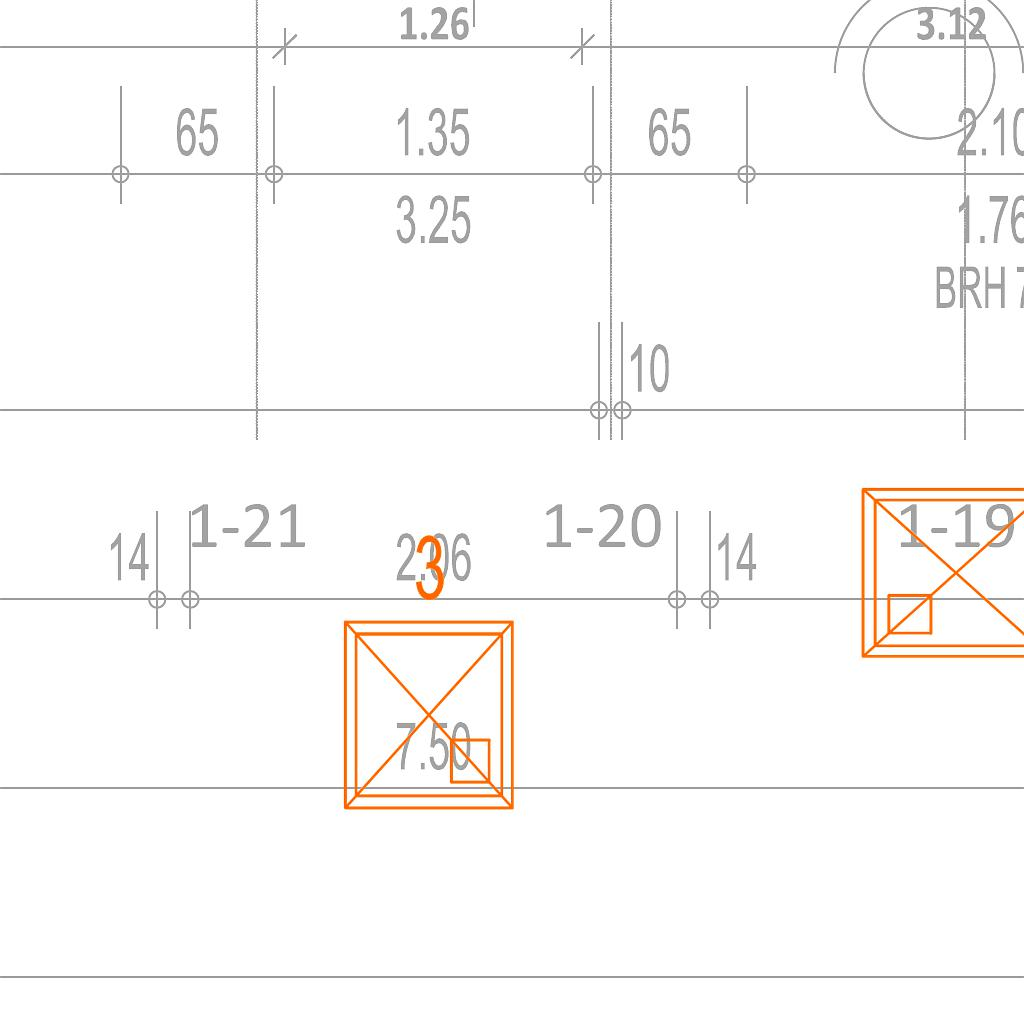Einbaudownlights_LED_Konferenzraeume: (321, 524, 529, 824), (847, 465, 1024, 673)
